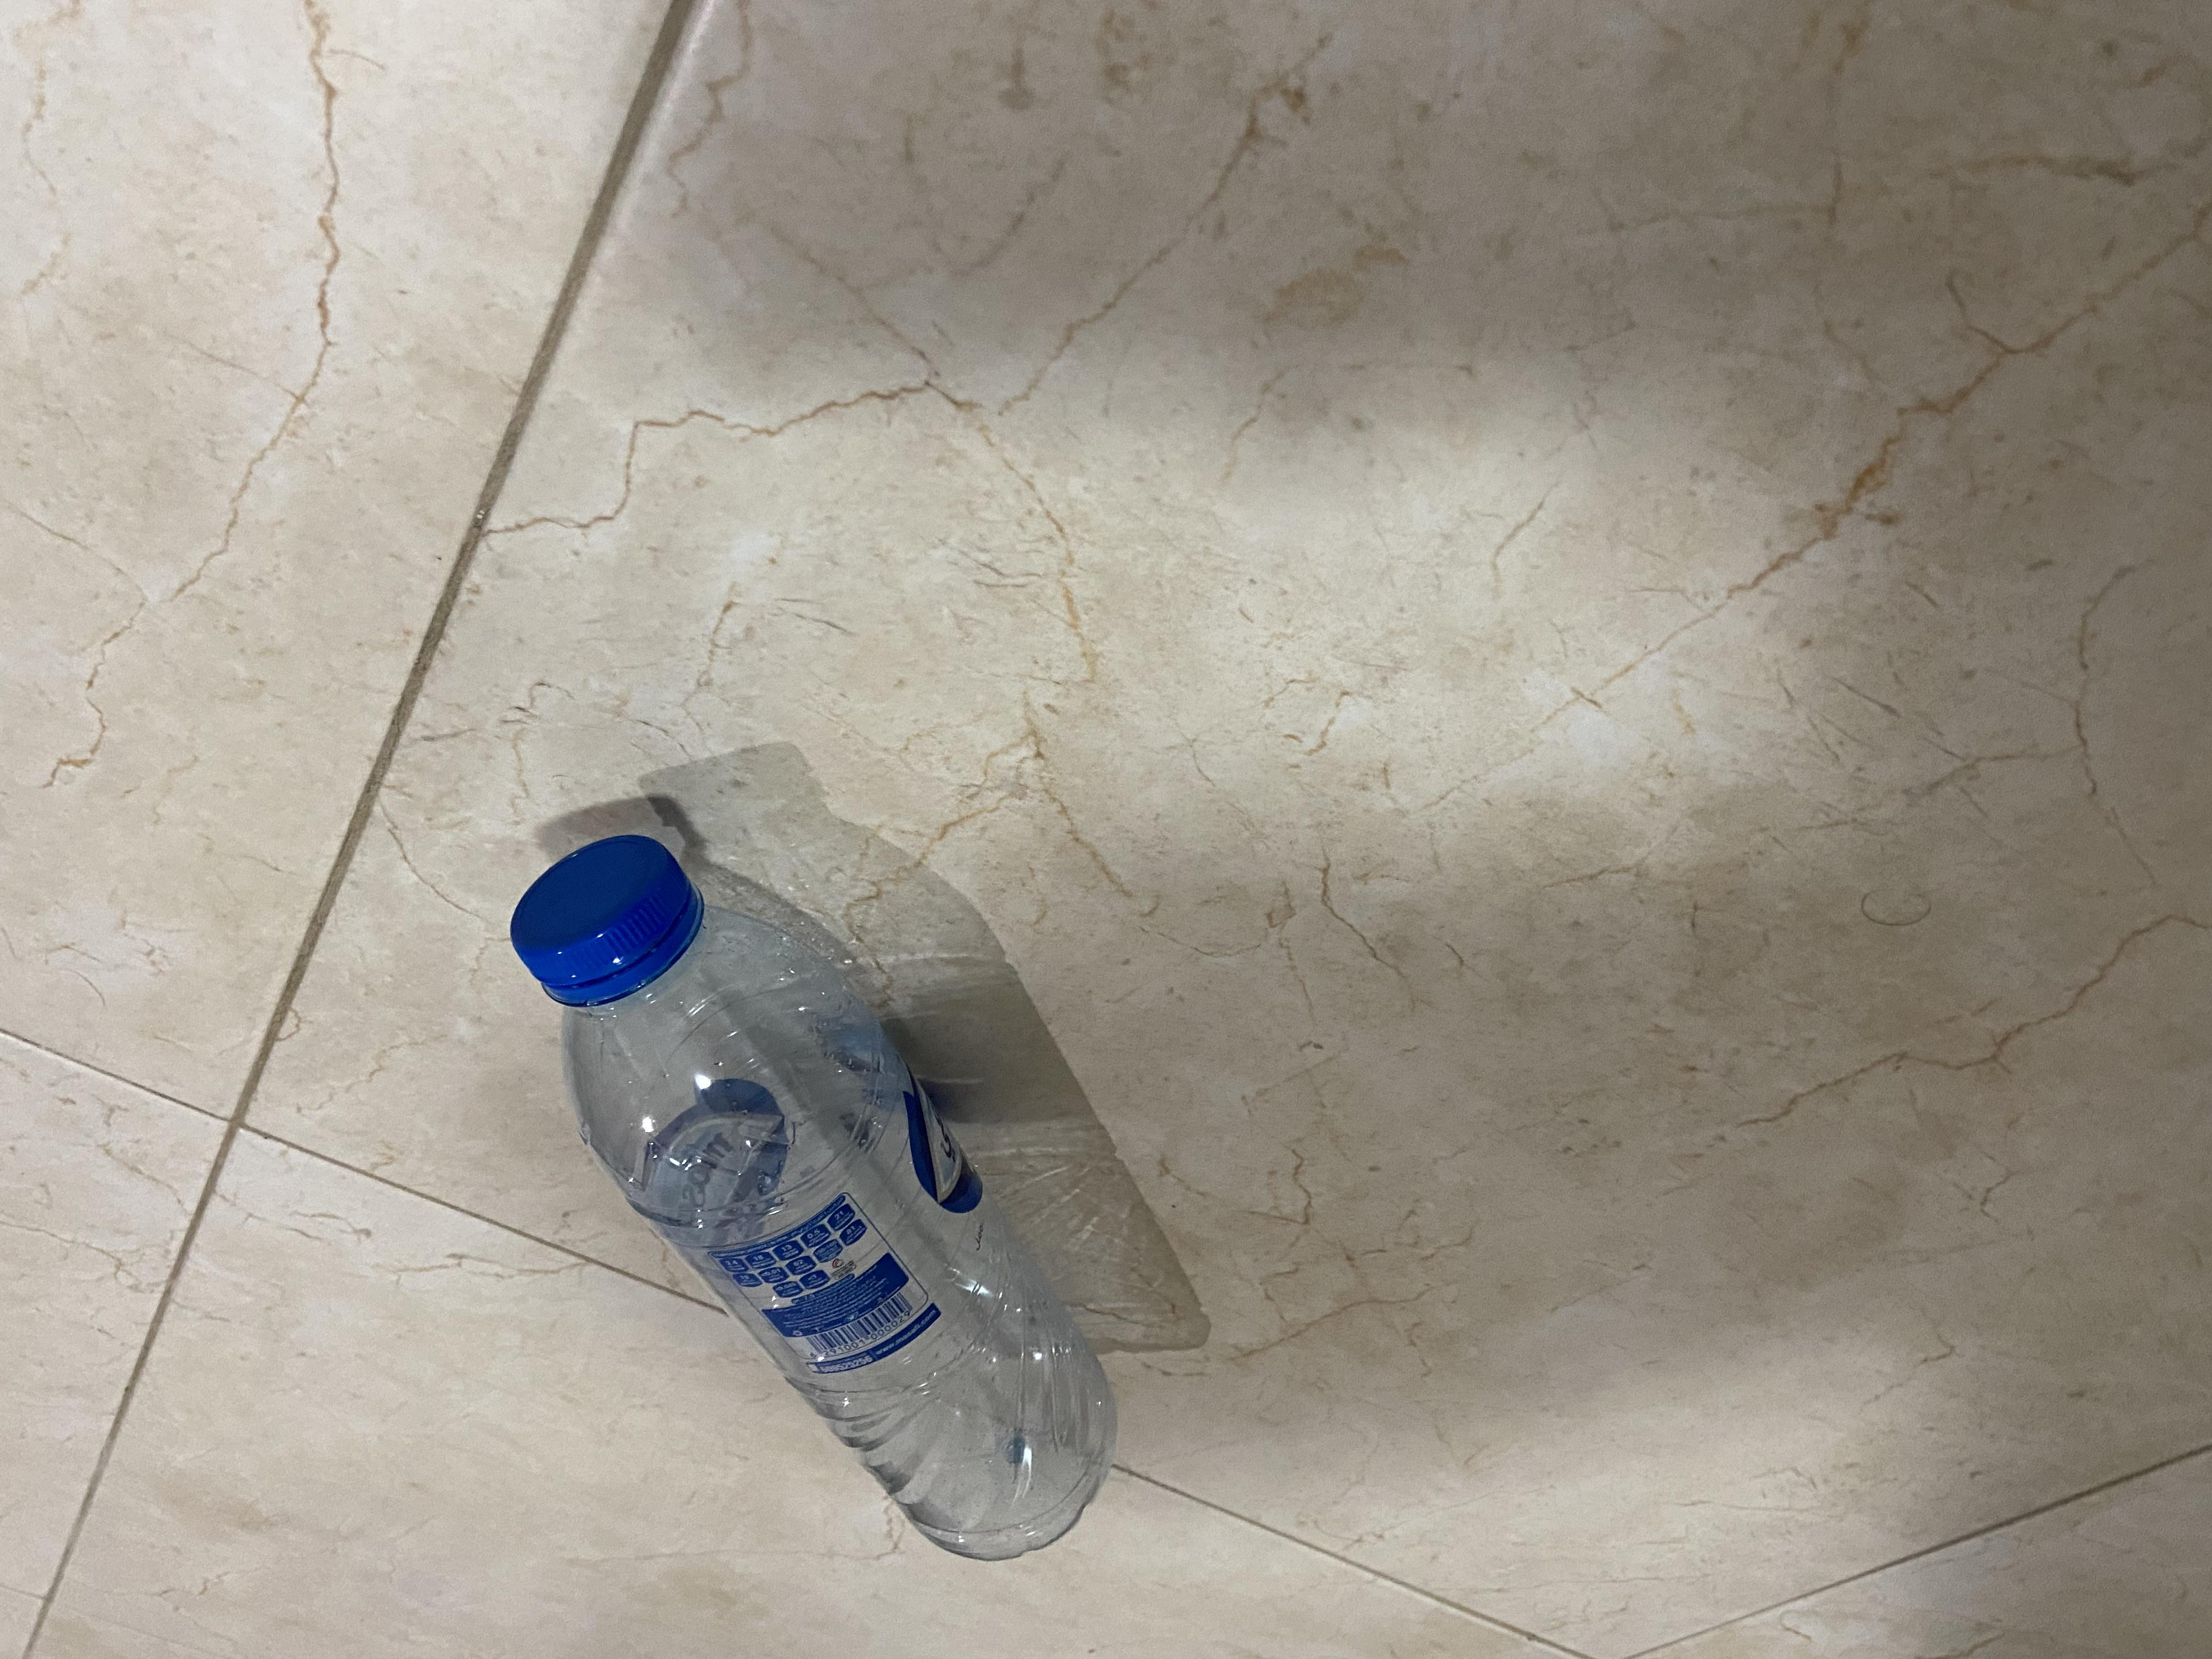bottle: (1090, 77, 1712, 866)
